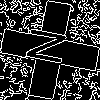N: (25, 25, 77, 70)
